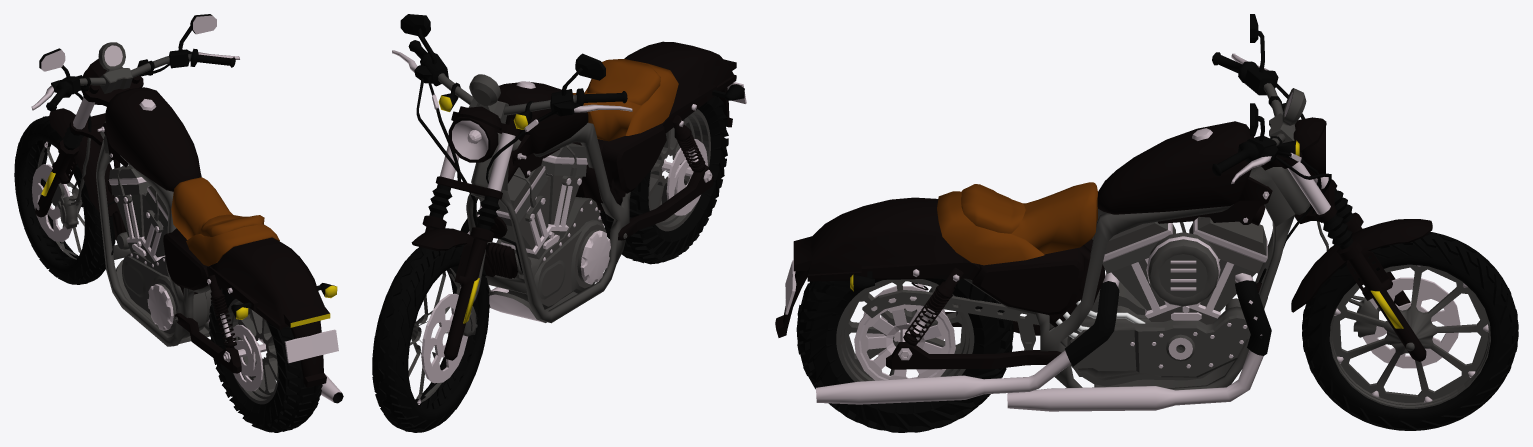
The model's file is harley primo 2.fbx.
The picture shows the model from 3 angles, left to right: view 1: azimuth 30°, elevation 25°; view 2: azimuth 150°, elevation 25°; view 3: azimuth 270°, elevation 25°; orthographic projection. The views are drawn at different scales.
Visible parts, largest first — view 1: guardabarros trasero, neumatico delantero, tanque, neumatico trasero, asiento, barras, Cube.002, motor, motor.001, tapas traseras, manubrio, rueda trasera (+10 smaller); view 2: neumatico delantero, barras, Cube.002, motor, motor.001, neumatico trasero, asiento, tapas traseras, manubrio, guardabarros trasero, tanque, rueda trasera (+13 smaller); view 3: neumatico delantero, mofles, motor, tanque, neumatico trasero, asiento, guardabarros trasero, motor.001, Cube.002, barras, tapas traseras, rueda trasera (+10 smaller).
Part boxes in pixels (x1=…): guardabarros trasero: x1=209, y1=237, x2=330, y2=387; neumatico delantero: x1=14, y1=116, x2=115, y2=284; tanque: x1=97, y1=87, x2=201, y2=191; neumatico trasero: x1=209, y1=287, x2=322, y2=432; asiento: x1=171, y1=177, x2=279, y2=266; barras: x1=35, y1=75, x2=143, y2=217; Cube.002: x1=96, y1=121, x2=210, y2=346; motor: x1=108, y1=164, x2=168, y2=267; motor.001: x1=116, y1=232, x2=211, y2=338; tapas traseras: x1=163, y1=228, x2=337, y2=319; manubrio: x1=31, y1=48, x2=239, y2=132; rueda trasera: x1=174, y1=299, x2=278, y2=404; neumatico delantero: x1=372, y1=244, x2=489, y2=432; barras: x1=411, y1=106, x2=520, y2=360; Cube.002: x1=466, y1=122, x2=630, y2=323; motor: x1=478, y1=143, x2=604, y2=261; motor.001: x1=487, y1=197, x2=610, y2=309; neumatico trasero: x1=599, y1=96, x2=728, y2=264; asiento: x1=572, y1=59, x2=678, y2=141; tapas traseras: x1=572, y1=84, x2=744, y2=211; manubrio: x1=392, y1=40, x2=632, y2=184; guardabarros trasero: x1=624, y1=41, x2=736, y2=127; tanque: x1=497, y1=81, x2=588, y2=183; rueda trasera: x1=623, y1=109, x2=712, y2=238; neumatico delantero: x1=1302, y1=232, x2=1518, y2=430; mofles: x1=816, y1=272, x2=1271, y2=411; motor: x1=1102, y1=216, x2=1267, y2=368; tanque: x1=1097, y1=121, x2=1272, y2=225; neumatico trasero: x1=796, y1=278, x2=1013, y2=432; asiento: x1=937, y1=182, x2=1097, y2=265; guardabarros trasero: x1=775, y1=197, x2=971, y2=337; motor.001: x1=1067, y1=281, x2=1249, y2=386; Cube.002: x1=964, y1=166, x2=1310, y2=390; barras: x1=1261, y1=151, x2=1432, y2=361; tapas traseras: x1=850, y1=239, x2=1104, y2=327; rueda trasera: x1=836, y1=279, x2=1049, y2=381.
Size of the model in its own units: 385 by 516 by 948.
